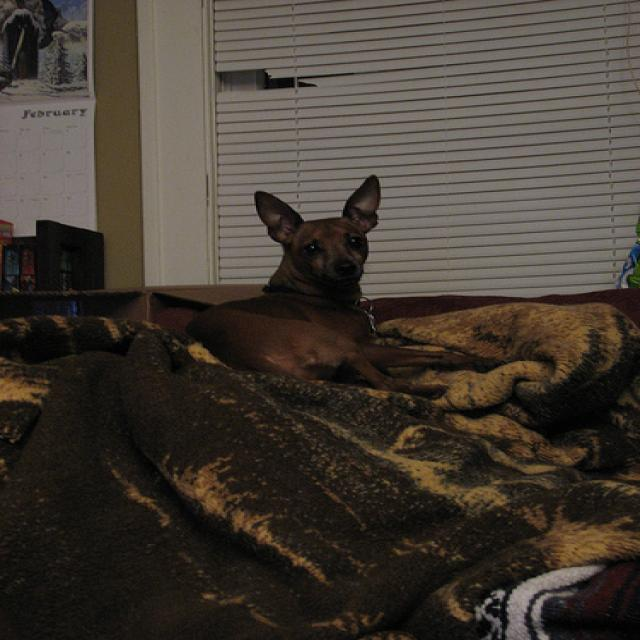Dog: (167, 136, 458, 436)
